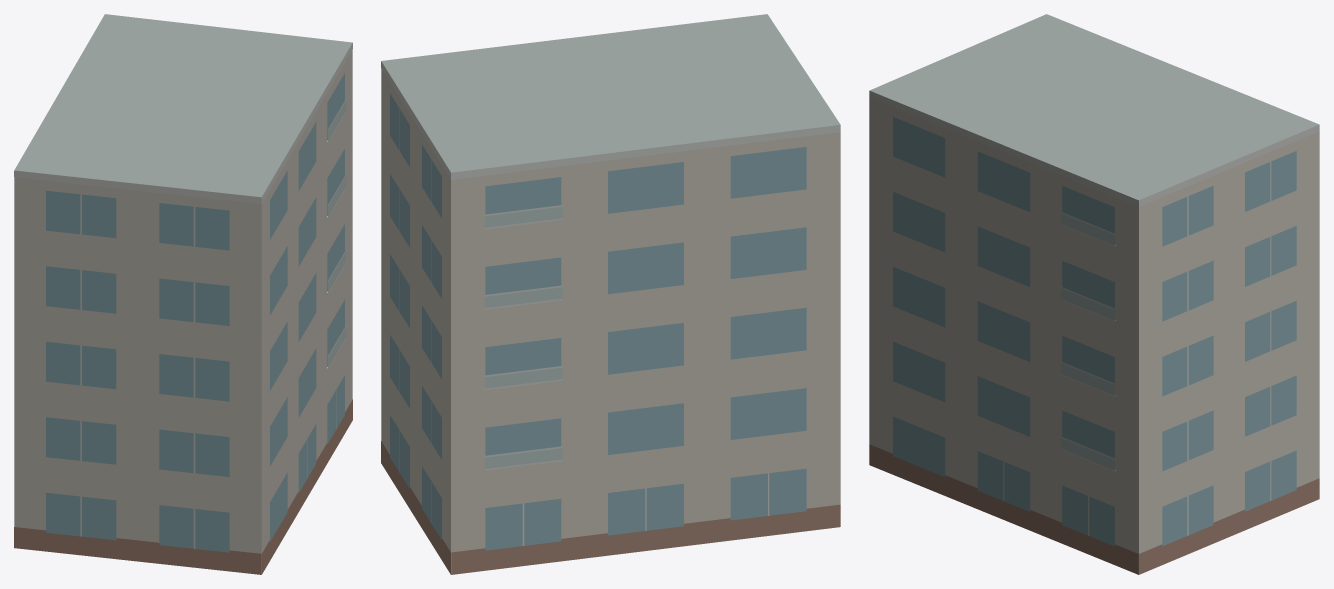
File: survey-upis-32946970.glb
3 renders of one model, left to right at view 1: azimuth 30°, elevation 25°; view 2: azimuth 150°, elevation 25°; view 3: azimuth 270°, elevation 25°, orthographic. The views are drawn at different scales.
Visible parts, largest first — view 1: survey-upis-32946970.tmp; view 2: survey-upis-32946970.tmp; view 3: survey-upis-32946970.tmp.
Boxes of the visible parts, <box> form: survey-upis-32946970.tmp: <box>14,14,352,574</box>; survey-upis-32946970.tmp: <box>381,14,840,574</box>; survey-upis-32946970.tmp: <box>869,14,1319,574</box>.
Size of the model in its own units: 14.63 by 13.7 by 14.93.
